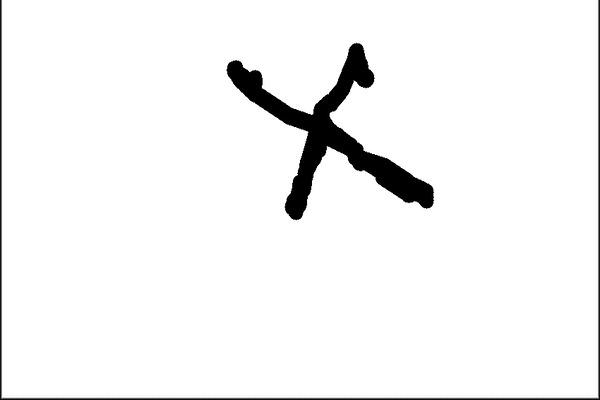X: (205, 33, 450, 231)
